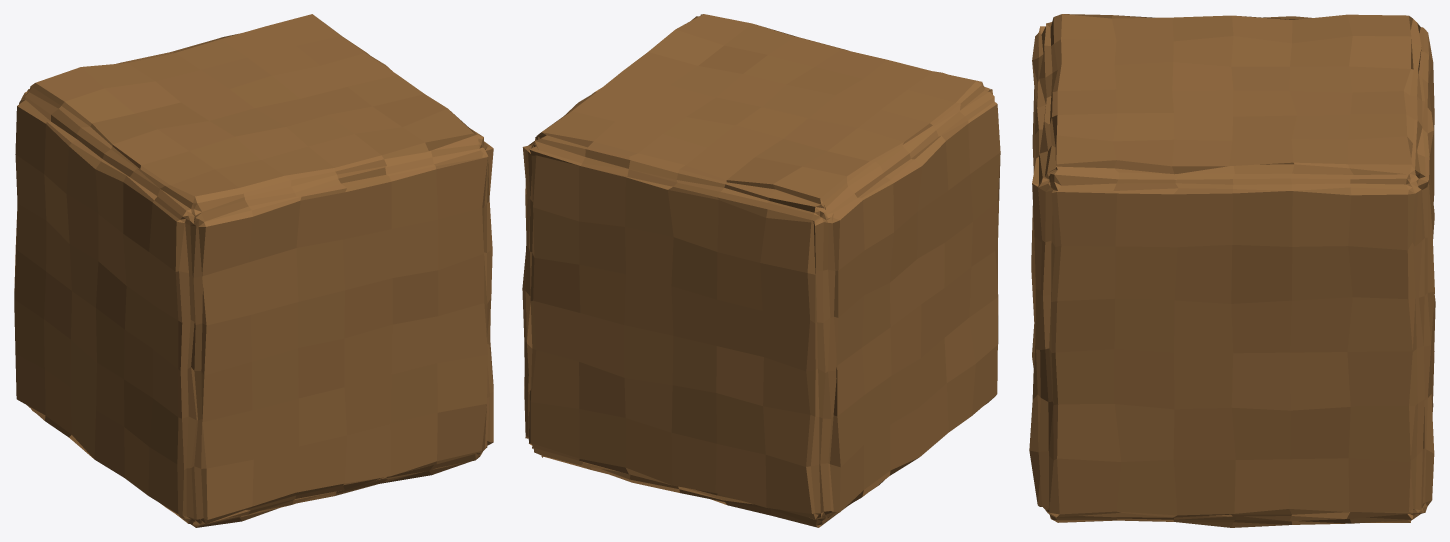
Rendered from rock3.fbx.
The picture shows the model from 3 angles, left to right: view 1: azimuth 30°, elevation 25°; view 2: azimuth 150°, elevation 25°; view 3: azimuth 270°, elevation 25°; orthographic projection. The views are drawn at different scales.
Parts seen in each view (by area): view 1: Cube.003; view 2: Cube.003; view 3: Cube.003.
Boxes of the visible parts, x1,y1,x2,y2 form: Cube.003: (14, 14, 493, 527); Cube.003: (522, 14, 1000, 527); Cube.003: (1029, 14, 1435, 527).
Size of the model in its own units: 204 by 205 by 205.
